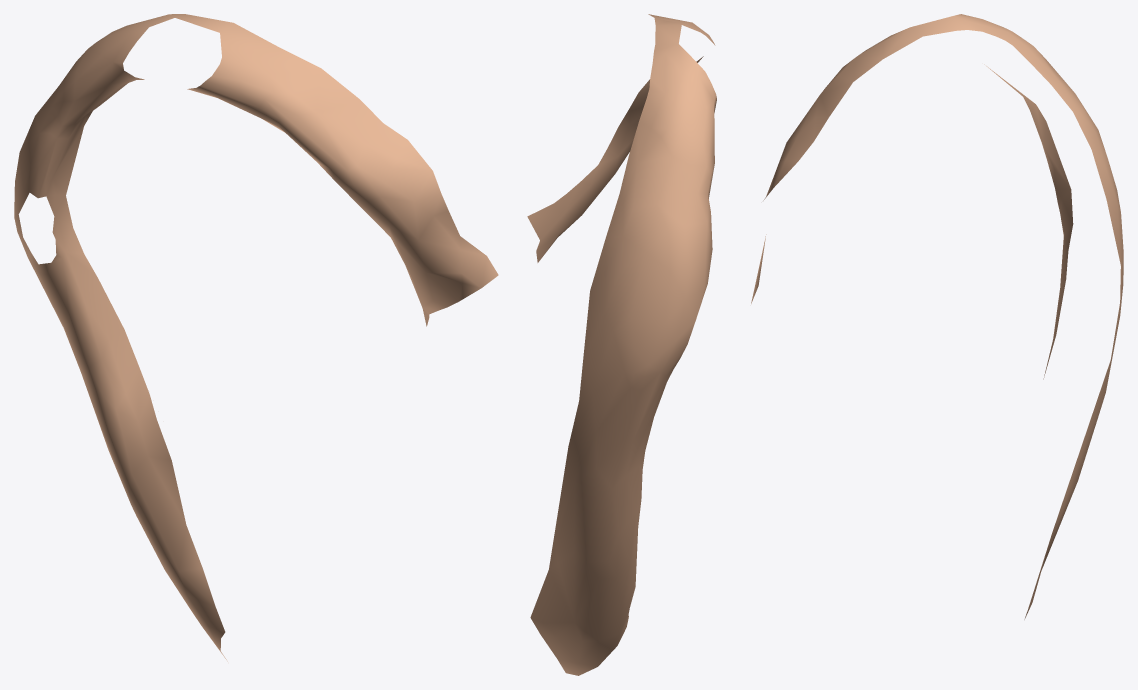
File: helix-r.glb
3 views of the same model, side by side, from view 1: azimuth 30°, elevation 25°; view 2: azimuth 150°, elevation 25°; view 3: azimuth 270°, elevation 25° (orthographic). The views are drawn at different scales.
Visible parts, largest first — view 1: Helix.r; view 2: Helix.r; view 3: Helix.r.
Boxes of the visible parts, x1,y1,x2,y2 form: Helix.r: (14, 14, 498, 661); Helix.r: (527, 14, 716, 675); Helix.r: (751, 14, 1123, 619).
Bounding box in the file's own units: 0.0217 × 0.0483 × 0.0268.
